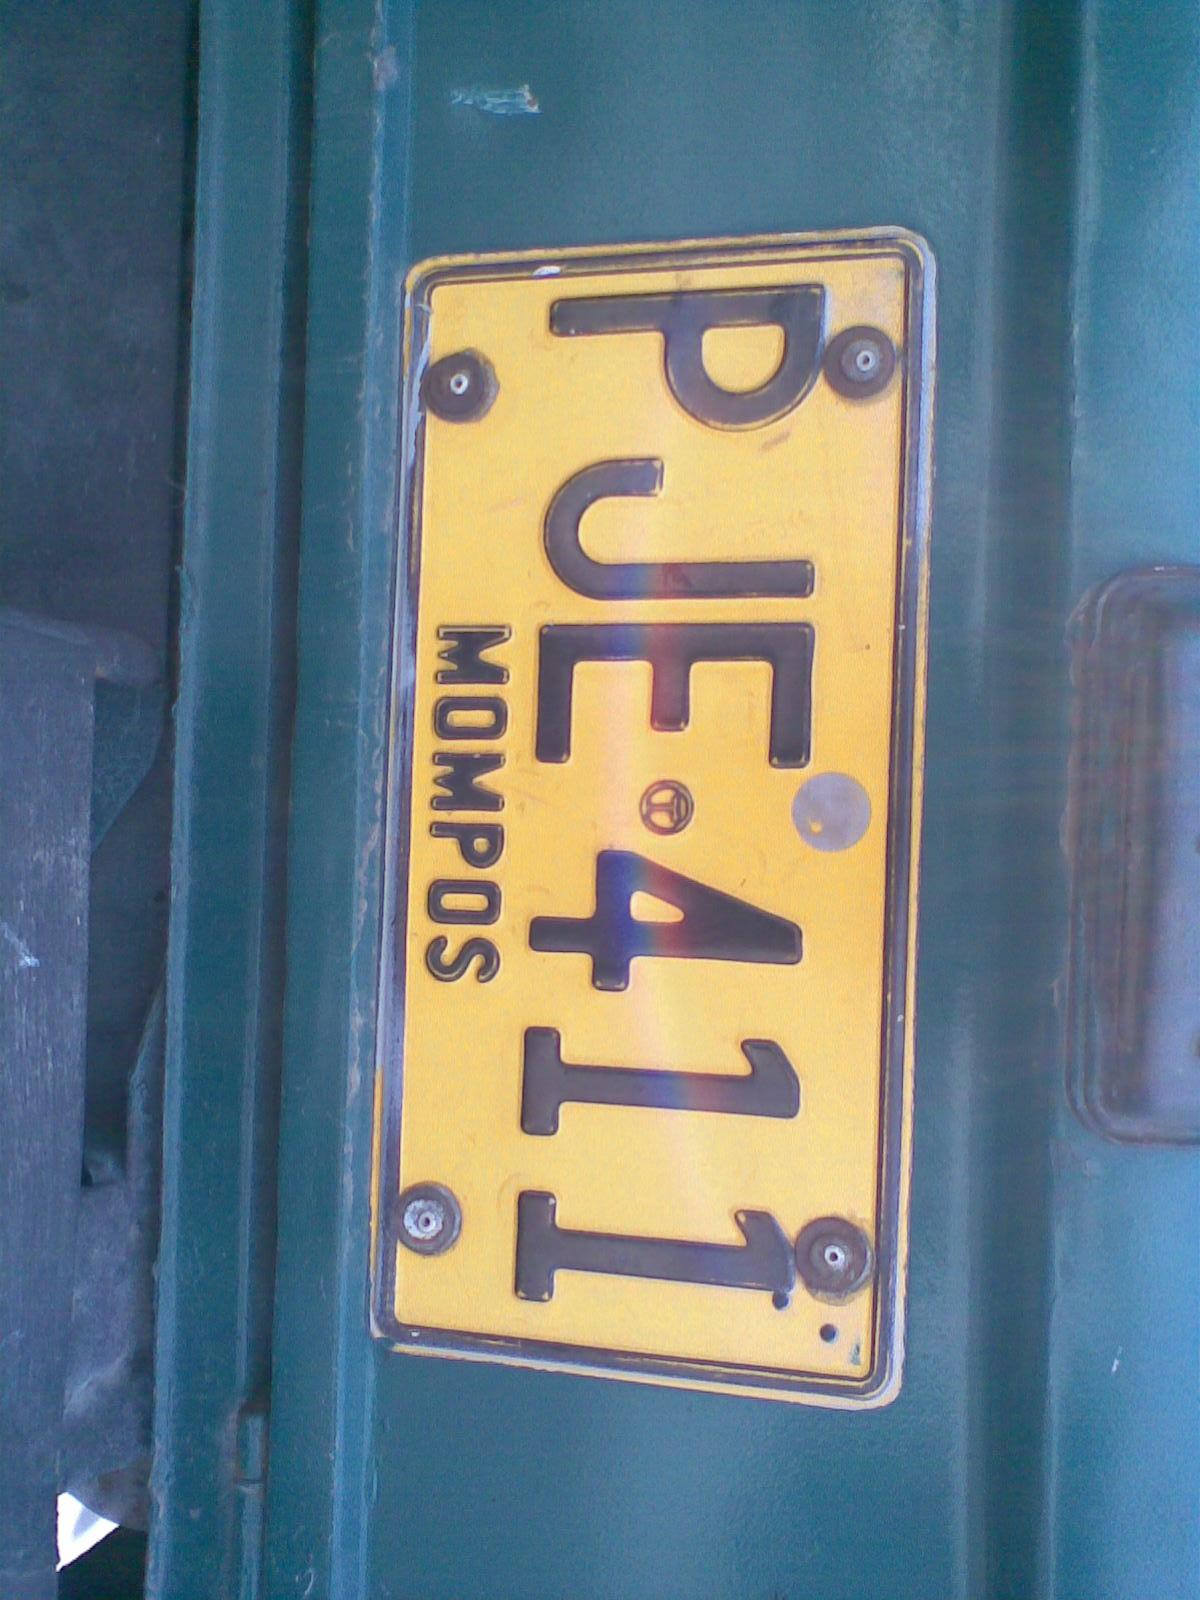placas: (349, 211, 966, 1435)
